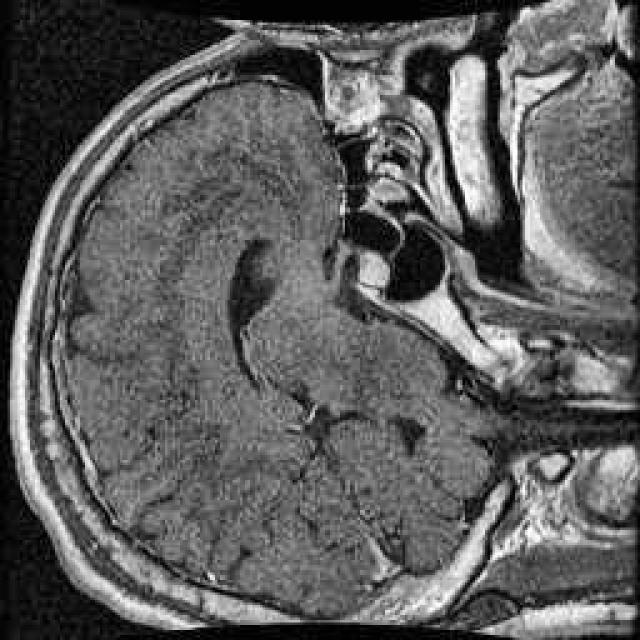Tumor: (352, 238, 402, 298)
